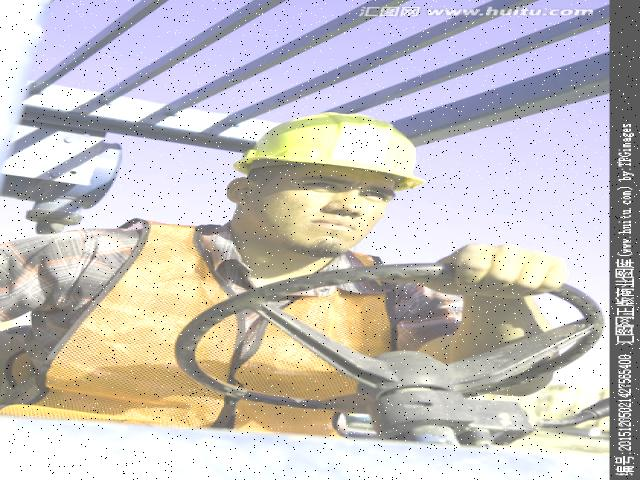Helmet: (223, 108, 433, 195)
